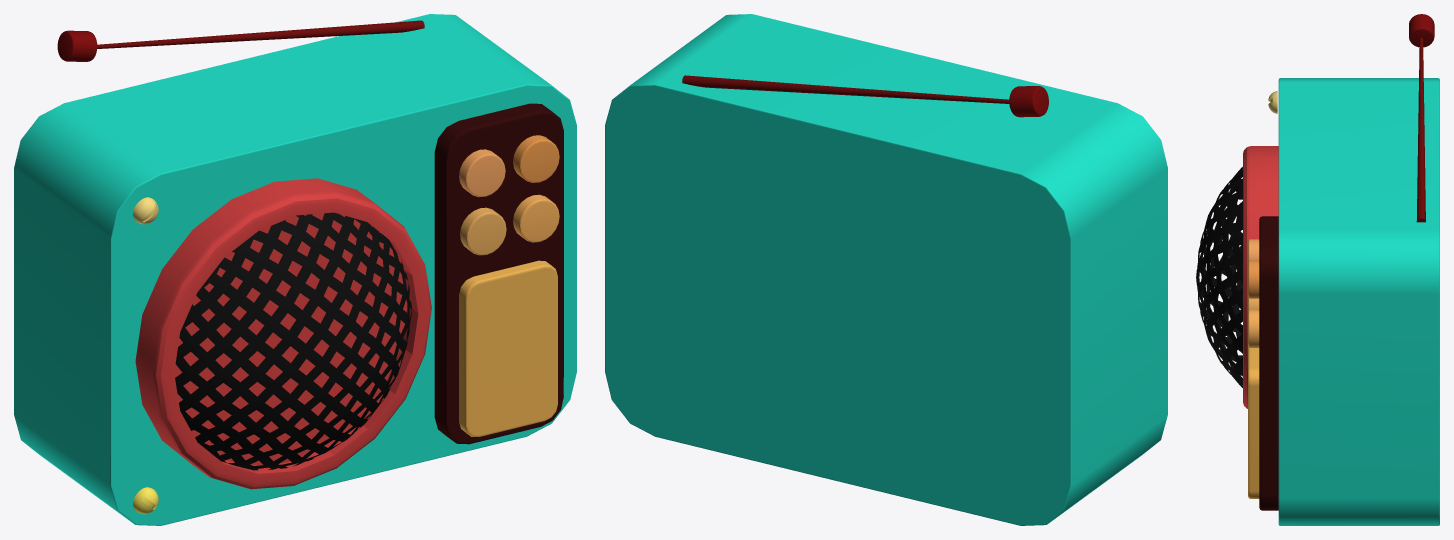
File: radiox4.glb
The picture shows the model from 3 angles, left to right: view 1: azimuth 30°, elevation 25°; view 2: azimuth 150°, elevation 25°; view 3: azimuth 270°, elevation 25°; orthographic projection. The views are drawn at different scales.
Parts seen in each view (by area): view 1: polySurface12, polySurface10, polySurface1, polySurface13, polySurface8, polySurface7, polySurface5, polySurface2, polySurface3, polySurface4, polySurface6; view 2: polySurface12, polySurface7, polySurface6; view 3: polySurface12, polySurface1, polySurface13, polySurface10, polySurface8, polySurface7, polySurface6, polySurface3, polySurface5.
Part boxes in pixels (x1,y1,x2,y2): polySurface12: [14, 14, 576, 525]; polySurface10: [135, 178, 431, 489]; polySurface1: [175, 212, 412, 470]; polySurface13: [434, 103, 563, 444]; polySurface8: [459, 260, 557, 436]; polySurface7: [97, 20, 424, 48]; polySurface5: [513, 135, 559, 182]; polySurface2: [459, 149, 505, 196]; polySurface3: [513, 194, 559, 242]; polySurface4: [460, 207, 506, 255]; polySurface6: [57, 30, 97, 61]; polySurface12: [605, 14, 1167, 525]; polySurface7: [682, 75, 1009, 103]; polySurface6: [1009, 86, 1048, 117]; polySurface12: [1278, 78, 1439, 525]; polySurface1: [1196, 167, 1242, 387]; polySurface13: [1259, 216, 1278, 510]; polySurface10: [1243, 146, 1278, 408]; polySurface8: [1248, 346, 1259, 498]; polySurface7: [1416, 37, 1425, 222]; polySurface6: [1409, 14, 1434, 47]; polySurface3: [1248, 309, 1259, 347]; polySurface5: [1248, 260, 1259, 298].
Bounding box in the file's own units: 1.58 × 1.4 × 0.8638.
